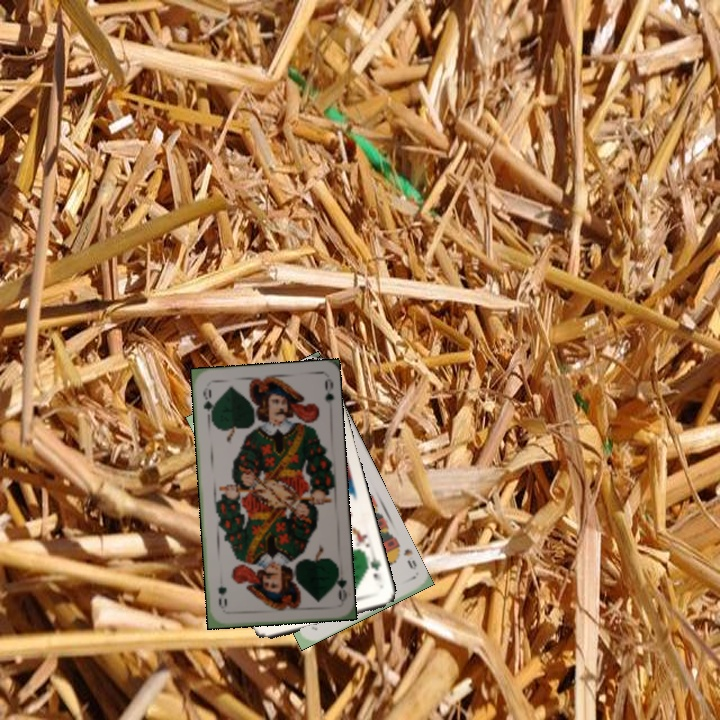GK: (362, 553, 384, 584)
GO: (329, 563, 349, 603), (199, 383, 216, 423)
S9: (390, 539, 419, 572)
